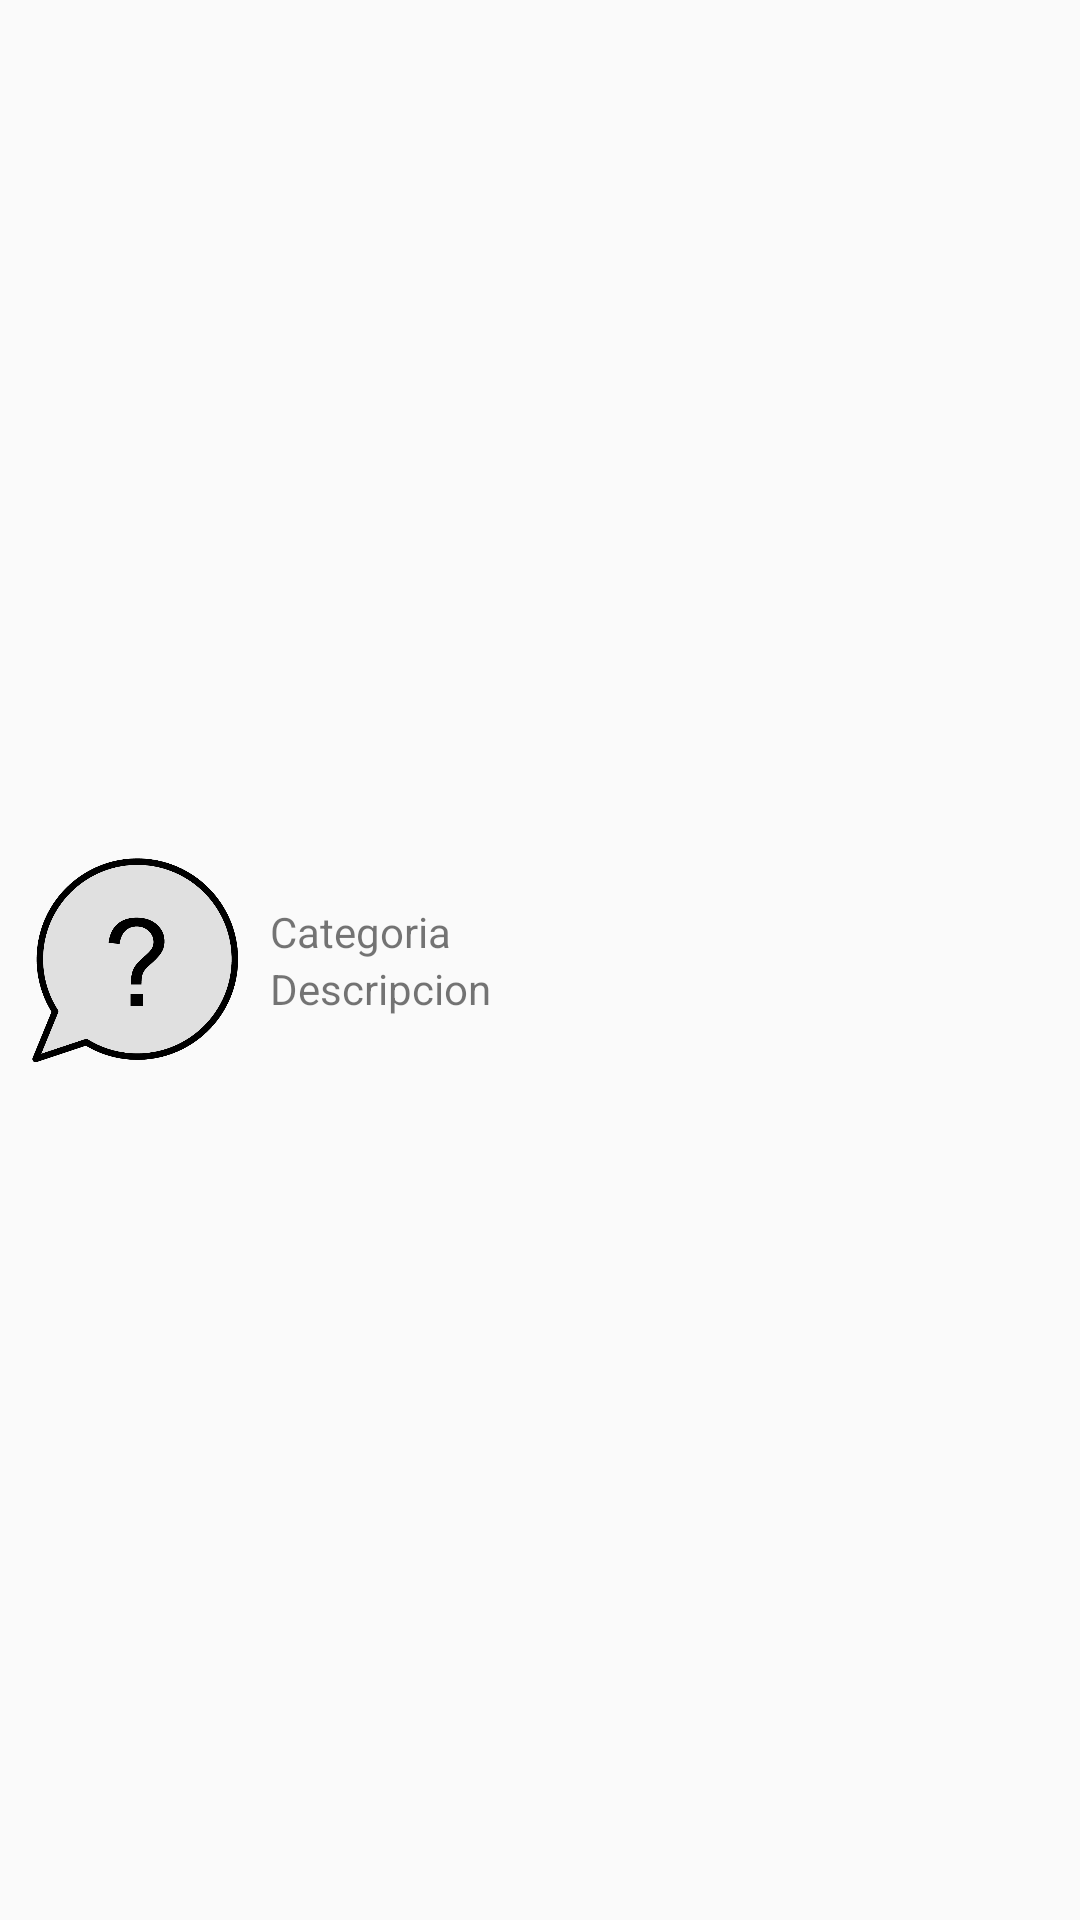

Icon click points for this 1080 x 1920 phone screenshot, format [x,y]:
question: [135,960]
